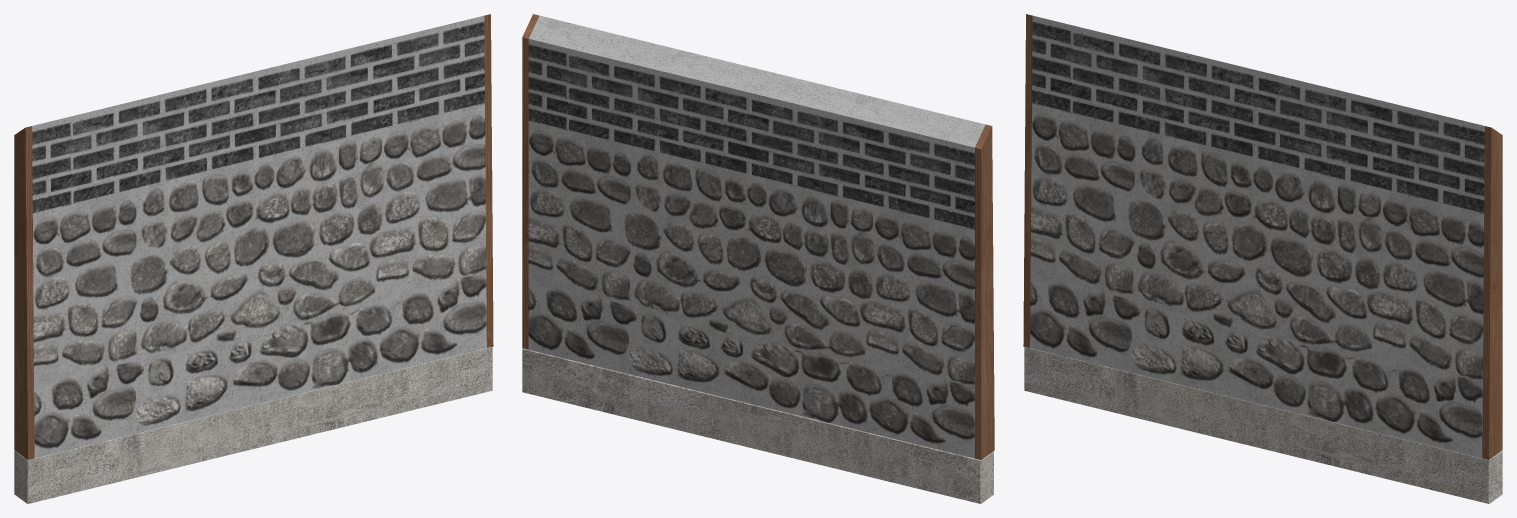
The model's file is SM_Baeryeom_Wall_C4.fbx.
3 views of the same model, side by side, from view 1: azimuth 30°, elevation 25°; view 2: azimuth 150°, elevation 25°; view 3: azimuth 330°, elevation 25° (orthographic).
Parts seen in each view (by area): view 1: SM_Baeryeom_Wall_C4; view 2: SM_Baeryeom_Wall_C4; view 3: SM_Baeryeom_Wall_C4.
Boxes of the visible parts, <box> form: SM_Baeryeom_Wall_C4: <box>14,14,493,503</box>; SM_Baeryeom_Wall_C4: <box>522,14,994,503</box>; SM_Baeryeom_Wall_C4: <box>1023,14,1502,503</box>.
Bounding box in the file's own units: 212 × 163 × 11.
